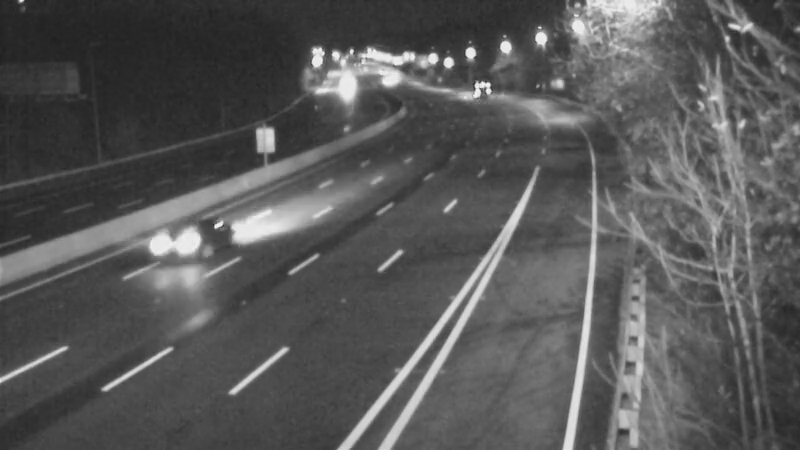vehicle: (141, 197, 221, 277), (361, 58, 411, 108), (462, 63, 512, 113), (320, 61, 370, 111)
